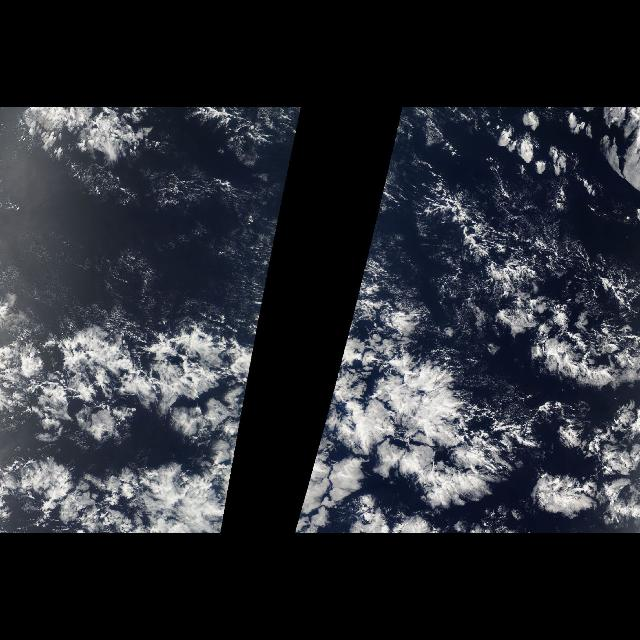Fish: (307, 174, 639, 476), (8, 286, 266, 476)
Flower: (312, 281, 508, 513)
Sugar: (1, 154, 250, 328)
